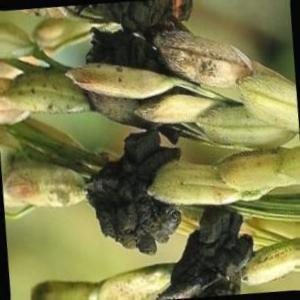Leaf_Scald: (98, 138, 168, 248), (170, 212, 245, 300), (91, 2, 180, 72)
